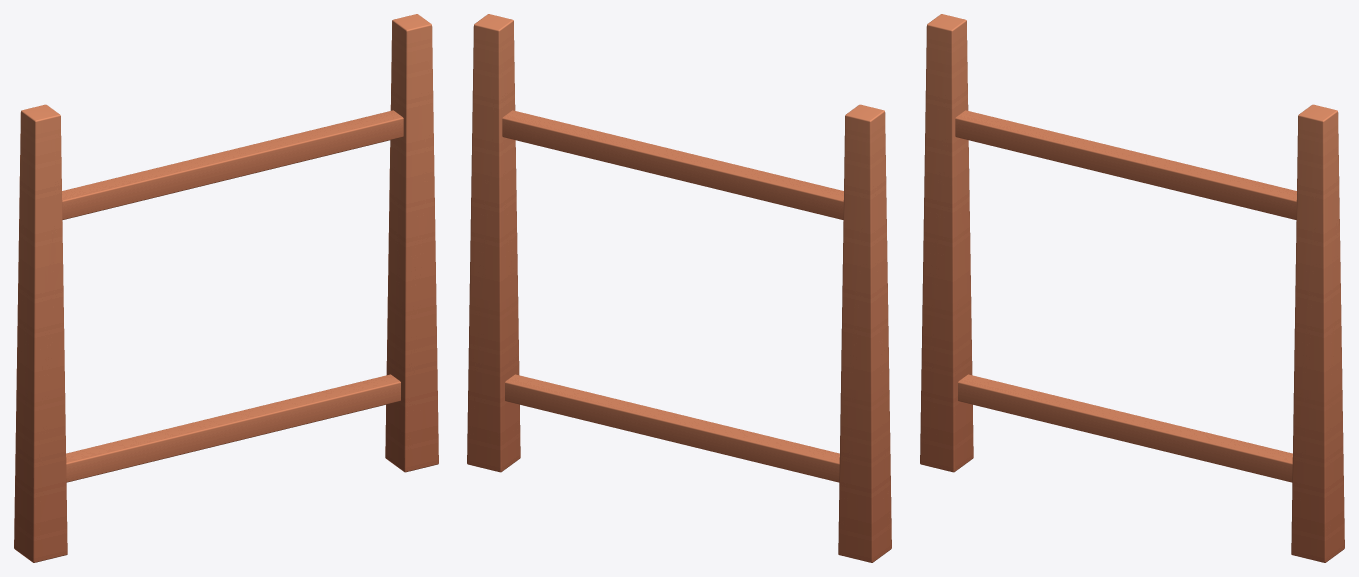
File: fence.glb
3 views of the same model, side by side, from view 1: azimuth 30°, elevation 25°; view 2: azimuth 150°, elevation 25°; view 3: azimuth 330°, elevation 25° (orthographic).
Visible parts, largest first — view 1: fence; view 2: fence; view 3: fence.
Part boxes in pixels (bbox=[...]): fence: bbox=[14, 14, 438, 562]; fence: bbox=[467, 14, 891, 562]; fence: bbox=[920, 14, 1344, 562].
Bounding box in the file's own units: 0.5 × 0.5175 × 0.0427.
Materials: 1 (1 with a texture image).
